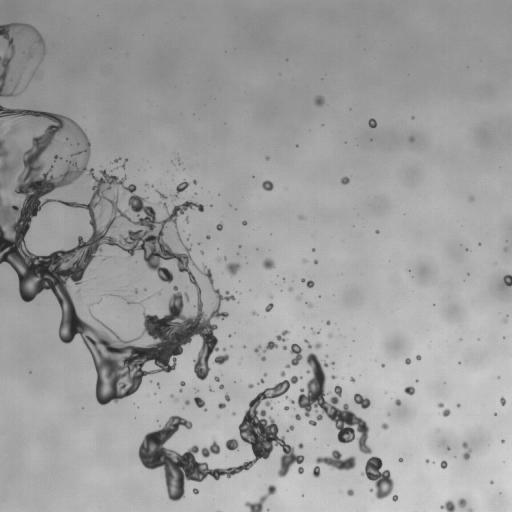droplet: (0, 24, 44, 96), (361, 456, 393, 499), (354, 393, 370, 408), (226, 262, 241, 276), (213, 353, 228, 364), (225, 438, 238, 450), (276, 330, 289, 341), (262, 258, 274, 269), (262, 180, 273, 191), (301, 278, 314, 287), (314, 95, 324, 106), (502, 274, 511, 286), (404, 386, 415, 395), (368, 118, 377, 128), (265, 303, 273, 311), (341, 177, 349, 184), (440, 460, 447, 468), (216, 222, 222, 230), (500, 397, 506, 405), (293, 414, 301, 420), (218, 402, 225, 408), (381, 423, 388, 429), (347, 489, 354, 495), (395, 399, 401, 405), (287, 425, 293, 431), (225, 394, 230, 401), (155, 290, 161, 295), (405, 358, 410, 364), (258, 379, 264, 384), (193, 488, 198, 494), (392, 495, 397, 501), (312, 330, 319, 334), (252, 310, 257, 315), (280, 371, 285, 376), (214, 376, 219, 381), (350, 377, 355, 382), (180, 381, 185, 386), (298, 443, 303, 448), (30, 122, 36, 126), (298, 215, 304, 219), (469, 196, 473, 201), (307, 303, 312, 307), (503, 317, 507, 322), (326, 320, 330, 325), (282, 345, 287, 349), (416, 355, 420, 360), (261, 356, 265, 361), (331, 375, 336, 379), (248, 384, 253, 388), (184, 400, 189, 404), (284, 406, 289, 410), (467, 508, 473, 511), (409, 137, 413, 141), (242, 221, 246, 225), (206, 235, 210, 239), (288, 287, 292, 291), (296, 295, 300, 299), (328, 333, 332, 337), (222, 347, 226, 351), (219, 385, 223, 389), (456, 403, 460, 407), (185, 217, 188, 222), (134, 289, 137, 294), (398, 458, 402, 461), (426, 459, 429, 463), (266, 156, 269, 159), (193, 180, 196, 183), (217, 258, 220, 261), (303, 259, 306, 262), (314, 260, 317, 263), (381, 364, 384, 367), (264, 373, 267, 376), (232, 412, 235, 415), (501, 439, 504, 442), (446, 447, 449, 450), (127, 301, 131, 303), (376, 230, 378, 233), (200, 251, 203, 253), (144, 288, 146, 291), (270, 295, 272, 298), (140, 301, 143, 303), (331, 362, 334, 364), (157, 383, 159, 386), (175, 398, 177, 401), (490, 481, 493, 483), (146, 184, 148, 186), (504, 248, 506, 250), (77, 290, 79, 292), (180, 389, 182, 391), (210, 388, 212, 390), (171, 395, 173, 397), (292, 408, 294, 410), (494, 412, 496, 414), (370, 489, 372, 491)
ligament: (0, 105, 234, 402), (138, 353, 369, 501), (312, 449, 355, 477), (245, 484, 276, 511), (285, 344, 302, 368), (440, 498, 466, 511), (173, 180, 189, 198), (254, 341, 277, 352), (437, 403, 450, 417), (194, 397, 206, 410), (462, 442, 471, 459), (305, 340, 321, 348), (7, 125, 18, 135), (156, 190, 166, 199), (27, 49, 32, 58), (122, 159, 127, 168), (114, 157, 120, 162), (103, 256, 109, 260)
